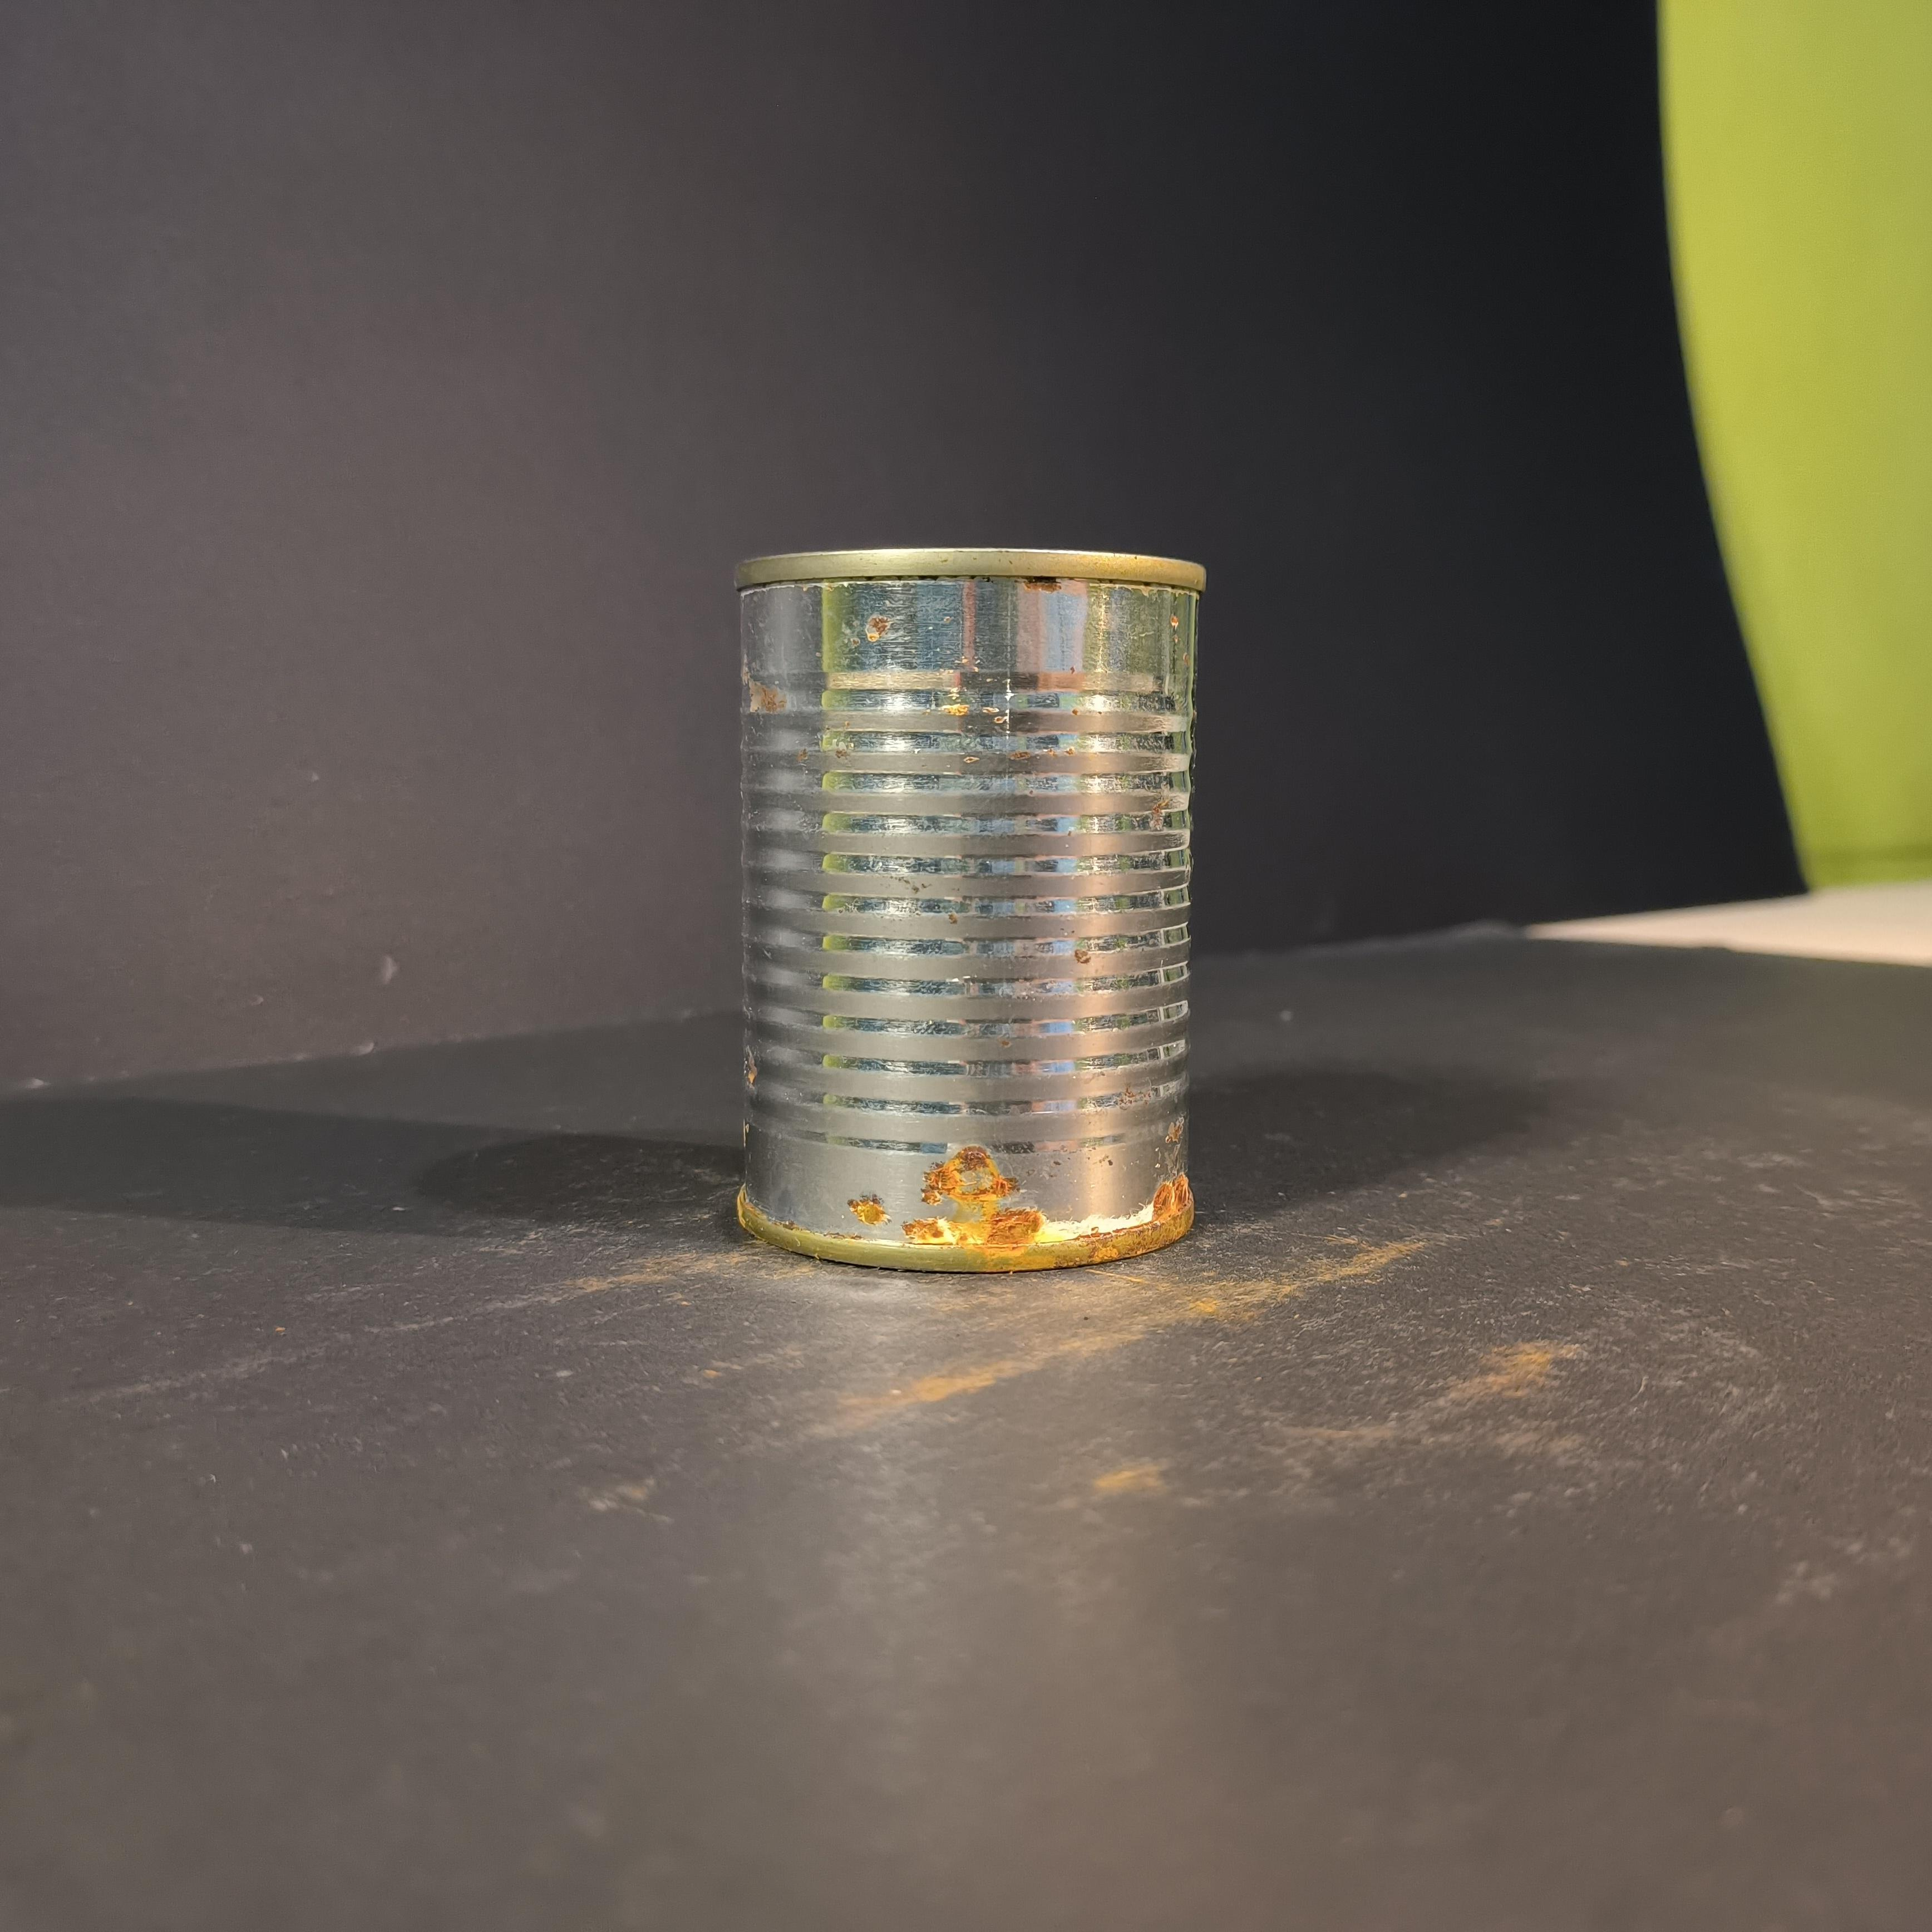Rusted: (701, 524, 1221, 1274)
